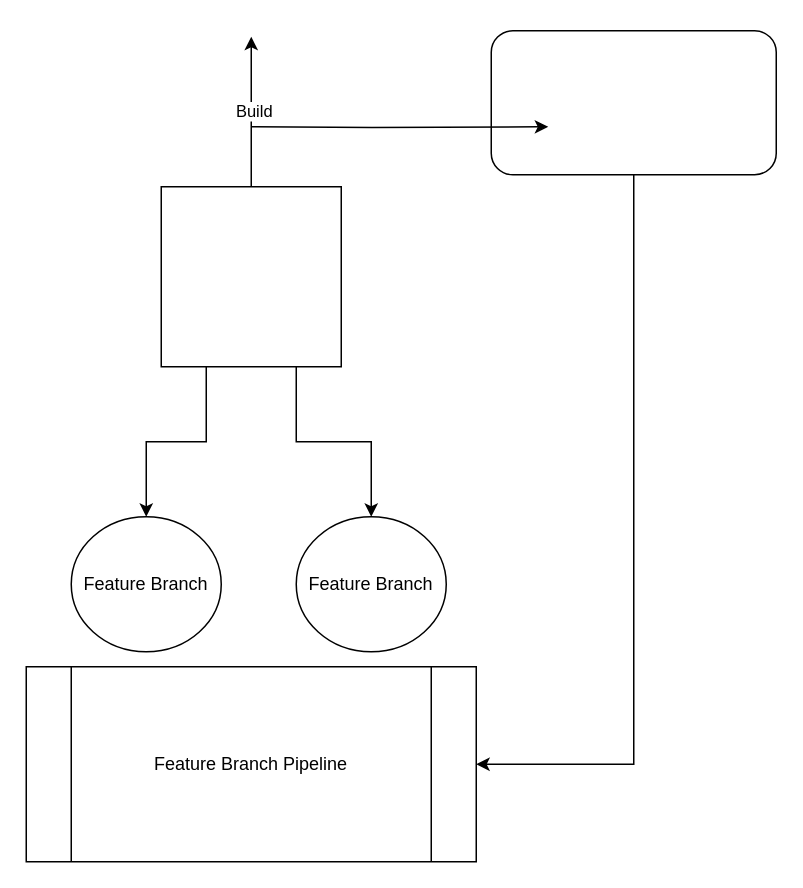
The diagram is 803 pixels wide and 888 high, and some of its shapes have lost their labels. The box of each missing label's shape, as (x1, y1, x2, y2) in pixels:
Layers Cache: (490, 29, 776, 175)
Trunk Branch: (160, 185, 341, 367)
